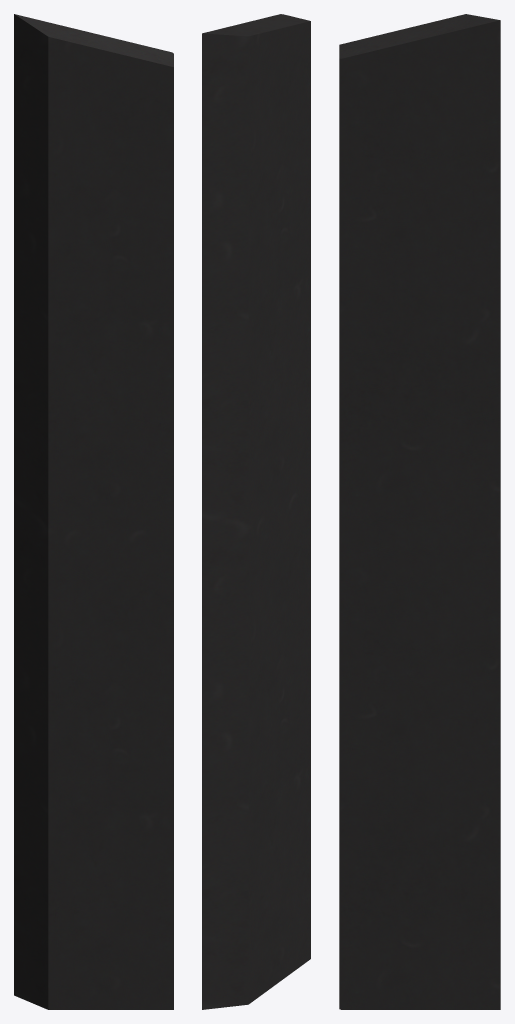
The model's file is A13.1.1 H.WALL. PNL 4748 CL.E.fbx.
3 views of the same model, side by side, from view 1: azimuth 90°, elevation 25°; view 2: azimuth 150°, elevation 25°; view 3: azimuth 270°, elevation 25° (orthographic).
Parts seen in each view (by area): view 1: Model; view 2: Model; view 3: Model.
Part boxes in pixels (x1,y1,x2,y2): Model: (14, 14, 173, 1009); Model: (202, 14, 310, 1009); Model: (339, 14, 500, 1009).
Size of the model in its own units: 150 by 4748 by 700.
